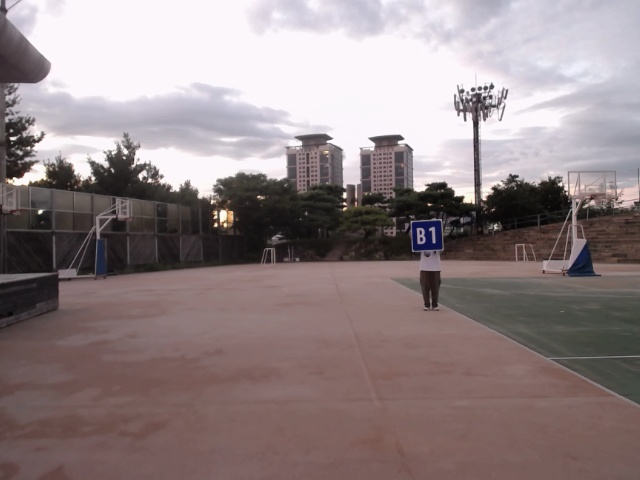delivery_b1: (411, 220, 443, 251)
